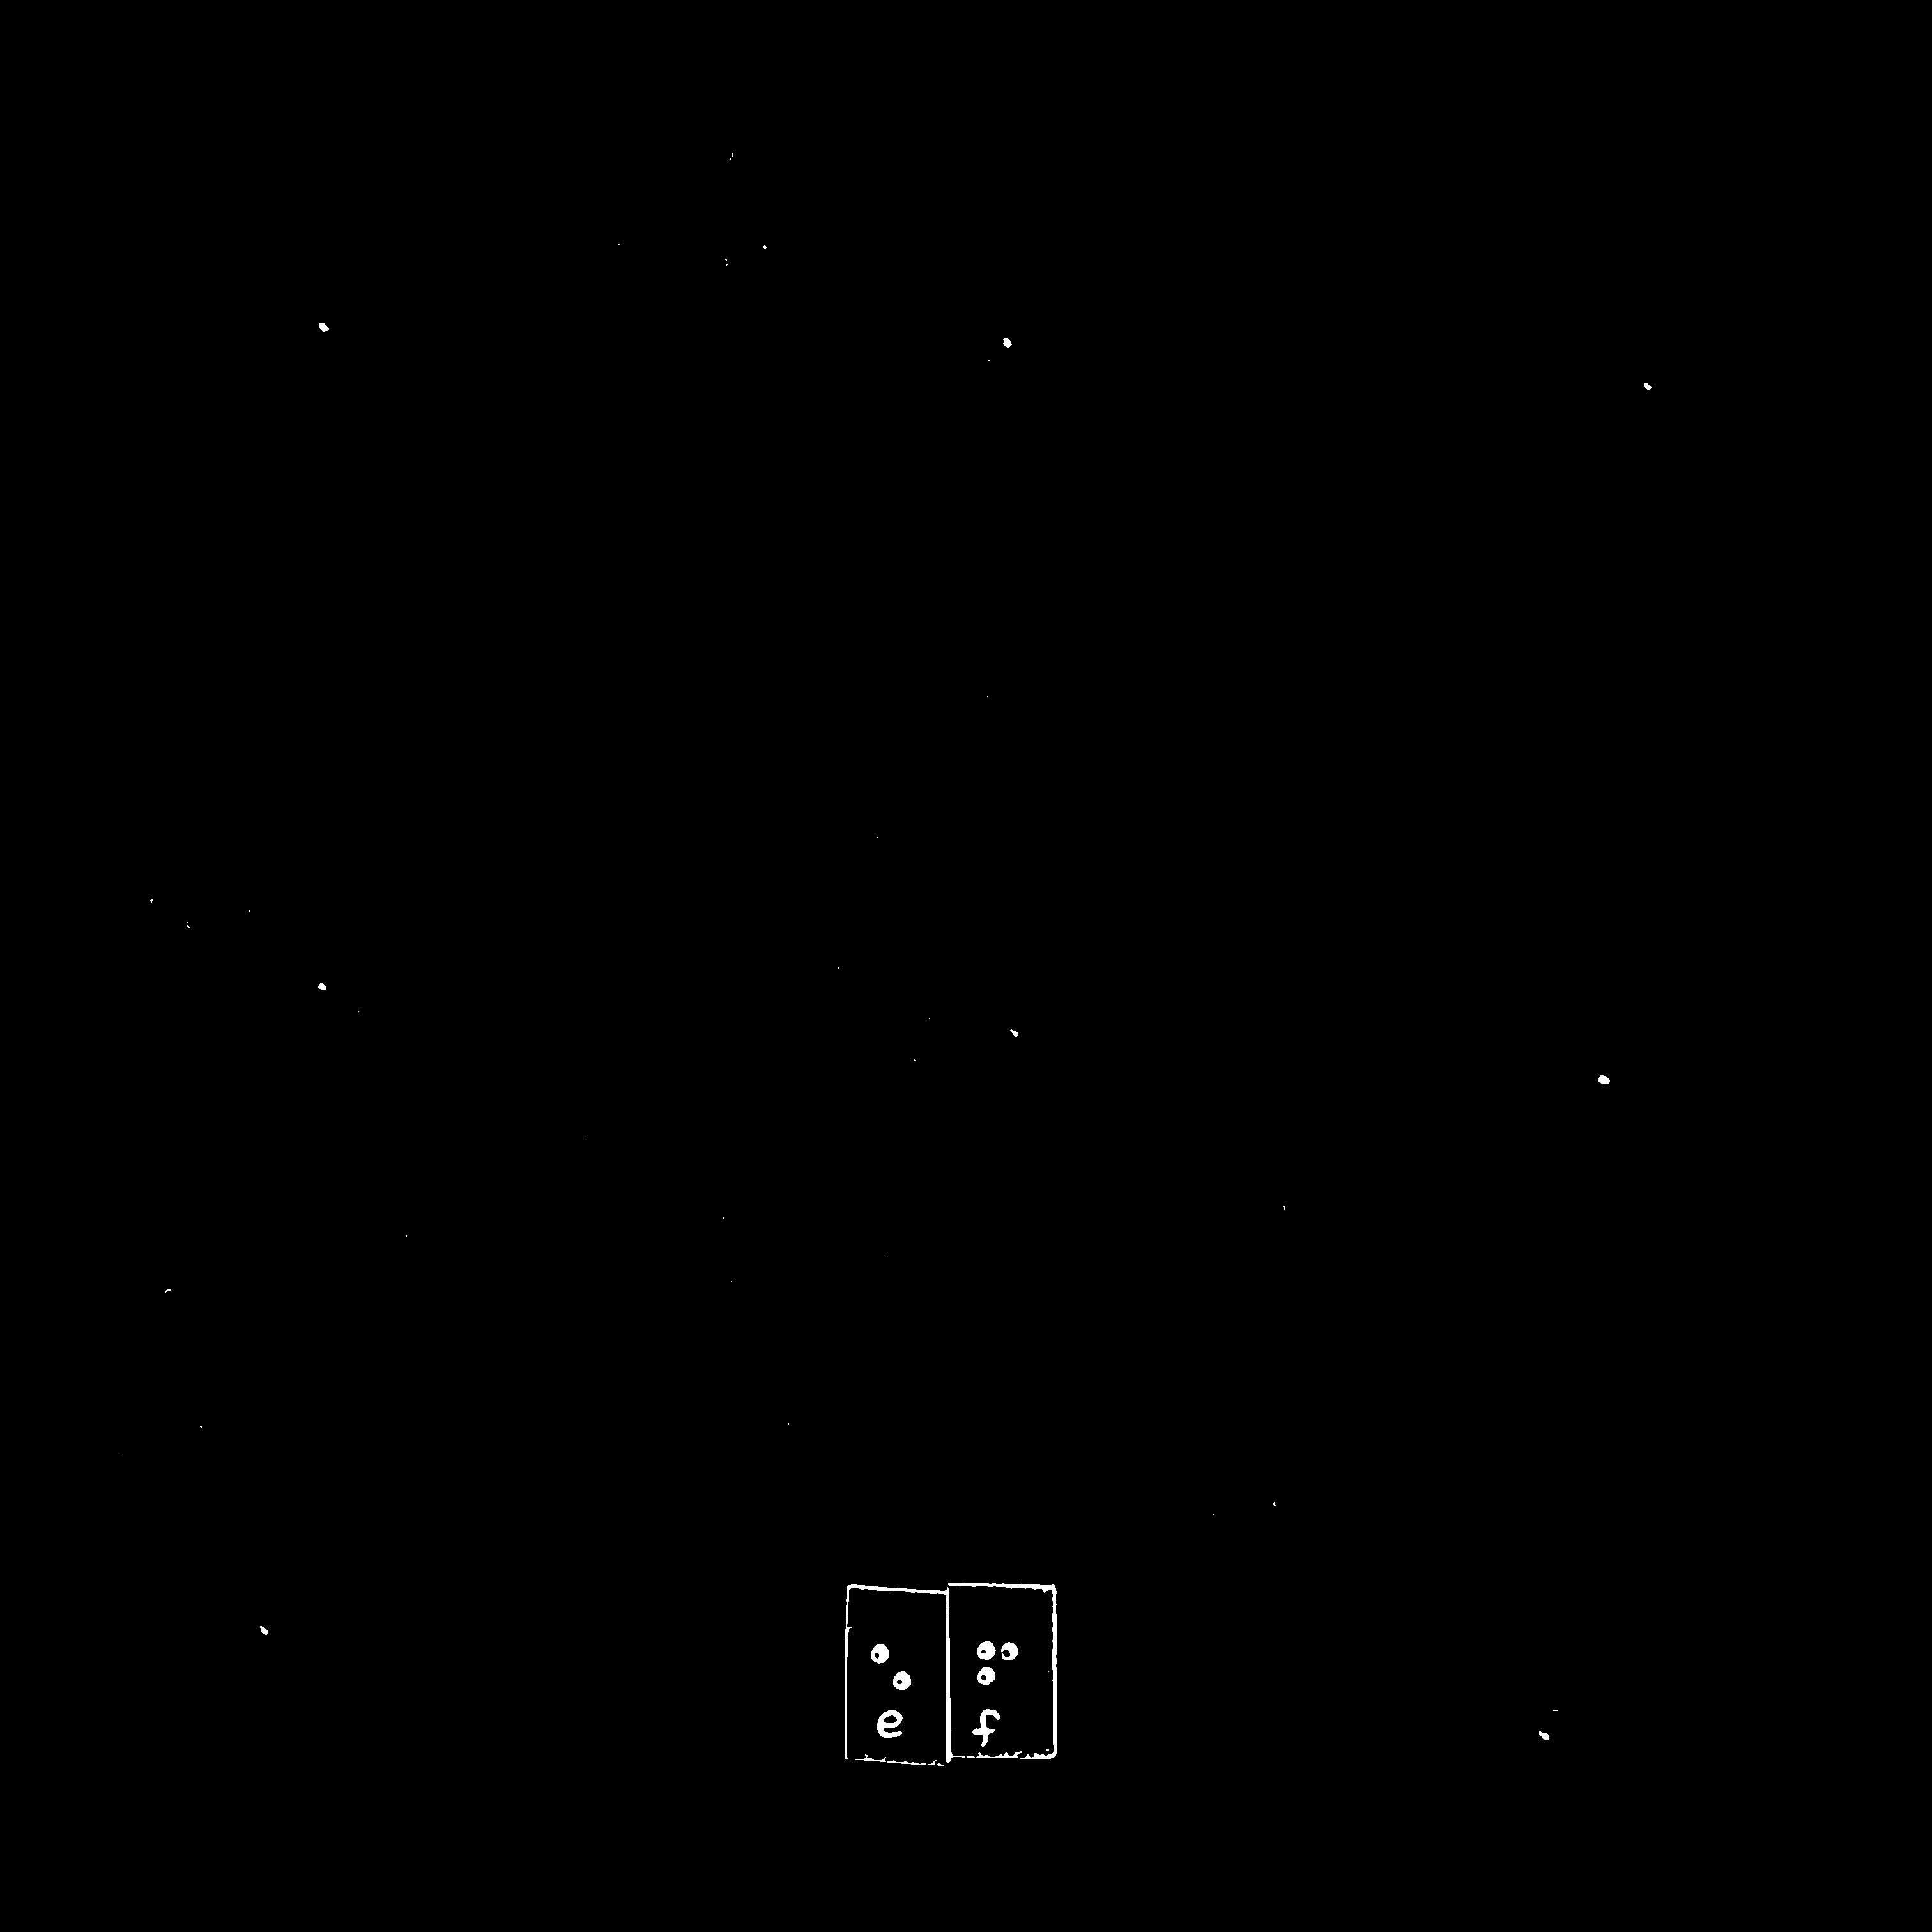e: (864, 1629, 930, 1718)
f: (968, 1630, 1032, 1721)
